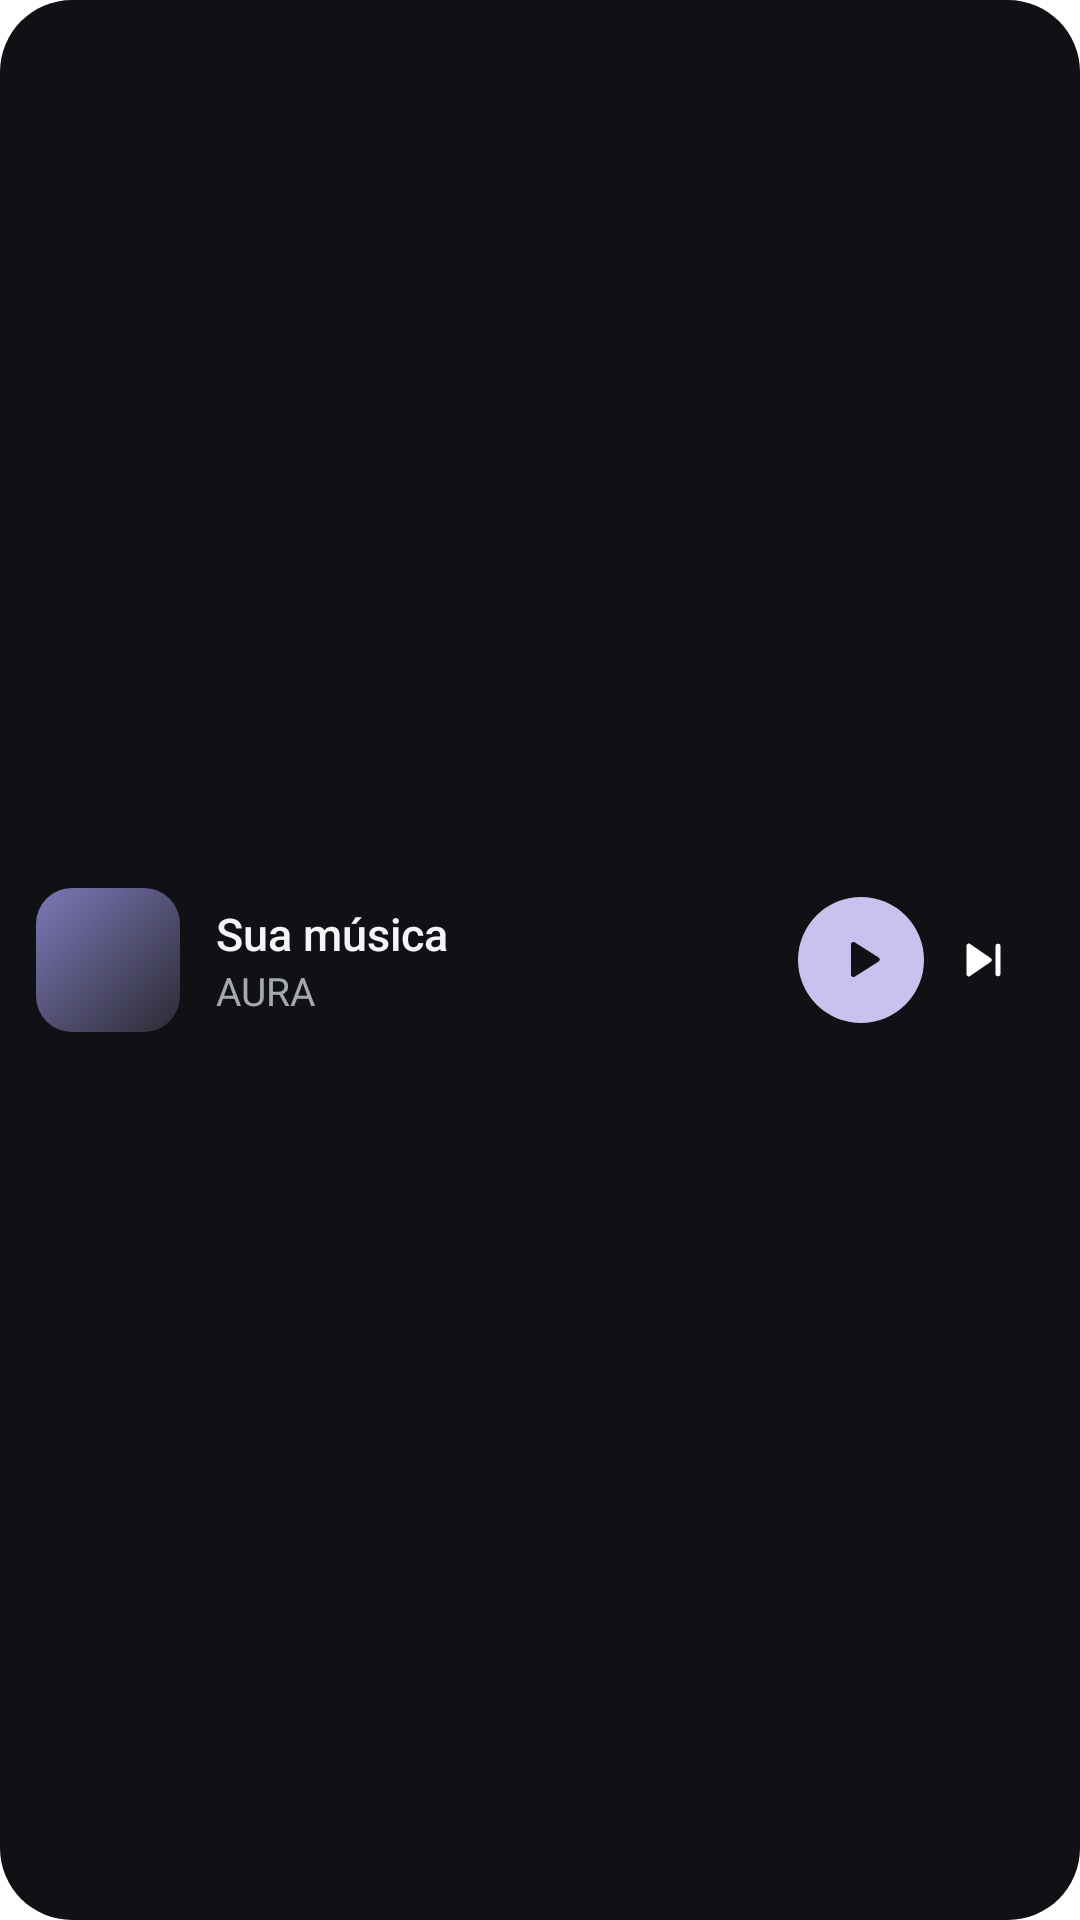

Point at icon controls on the screen. Image size 1080px×1920px, points as point (x, y).
widget next: point (983, 960)
widget play: point (865, 959)
